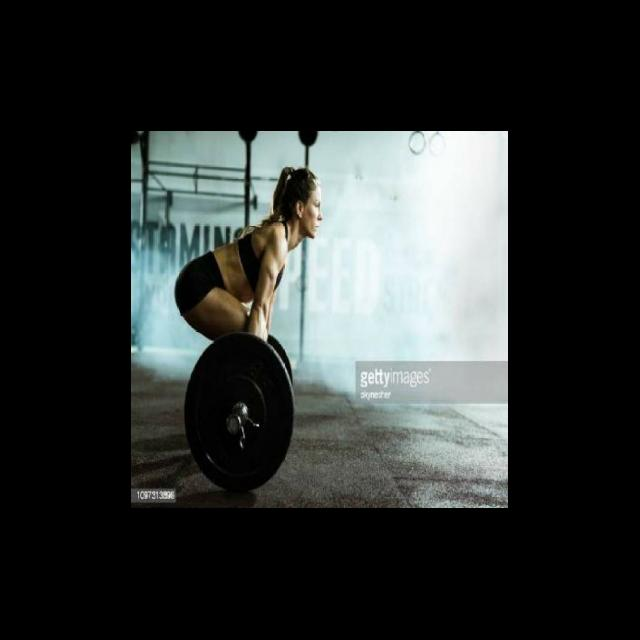barbell: (180, 328, 295, 497)
